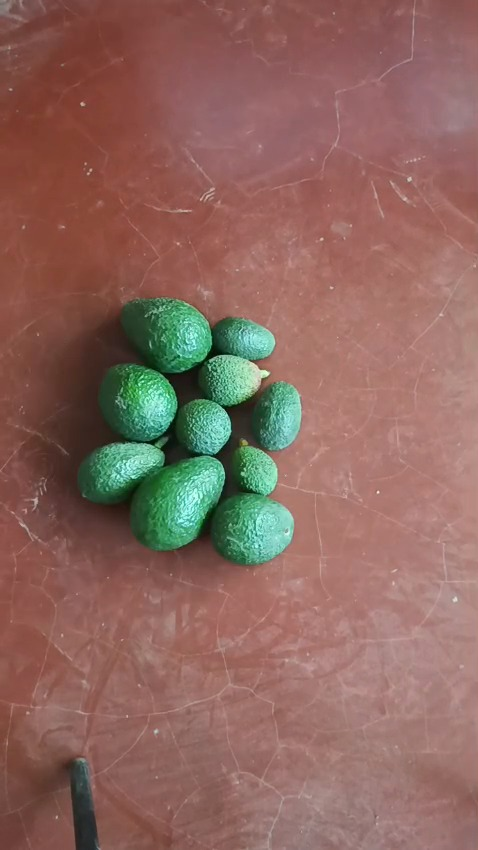Primera: (129, 454, 227, 548), (119, 296, 212, 372), (97, 362, 177, 440)
Segunda: (210, 492, 294, 562), (78, 441, 167, 504)
Tercera: (197, 354, 269, 407), (250, 381, 302, 449), (174, 398, 232, 454), (210, 316, 277, 361), (230, 446, 278, 495)
